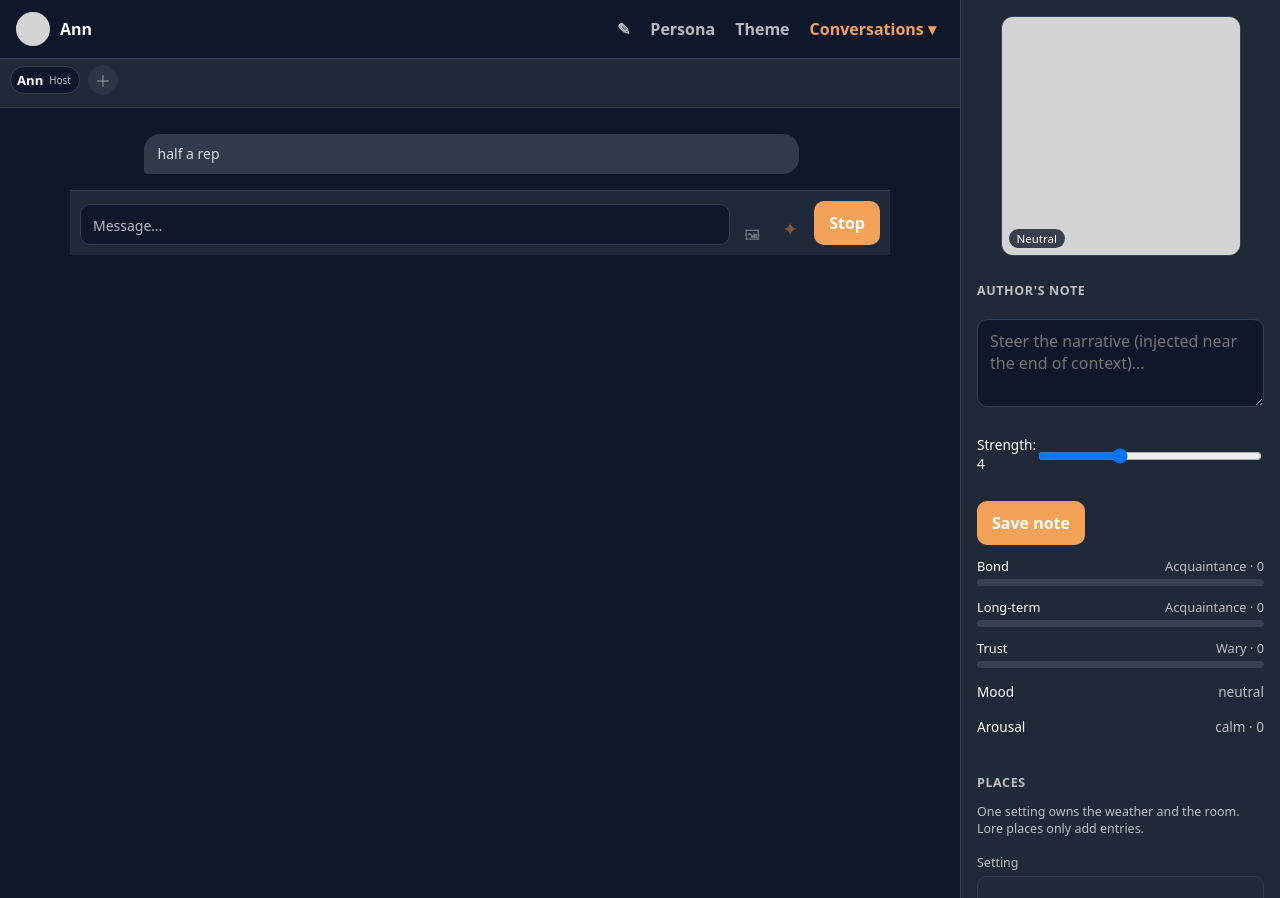
ChatPage conversation switch › drops the old chat's live streaming bubble when another chat is opened
expect the element with class "streaming" is shown: met, box 144,134 -> 799,174
Step 1. Click the button with class "conversations-btn" → click(873, 29), box 802,14 -> 944,44
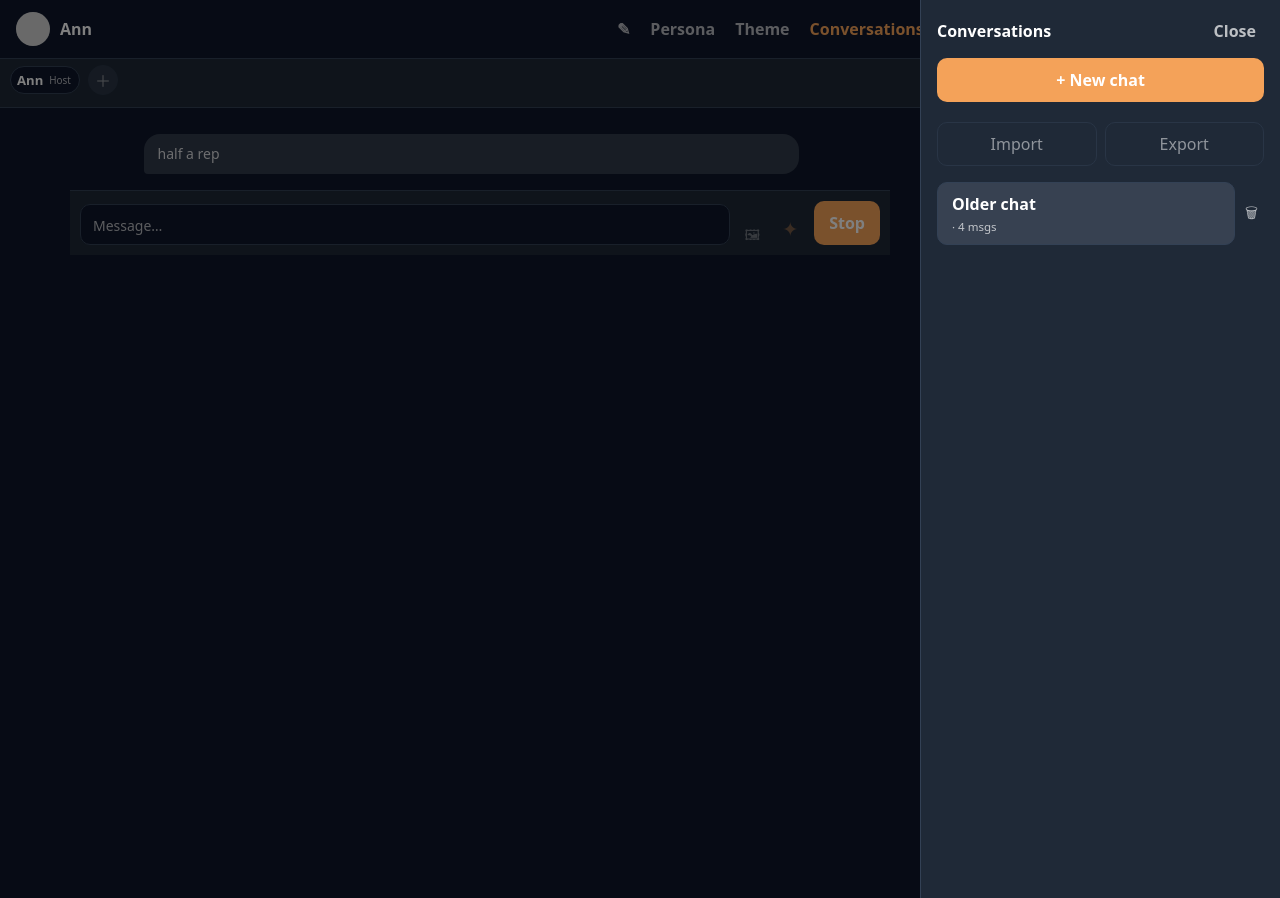
Step 2. Click the button with class "conv-item" → click(994, 204), box 937,182 -> 1235,245
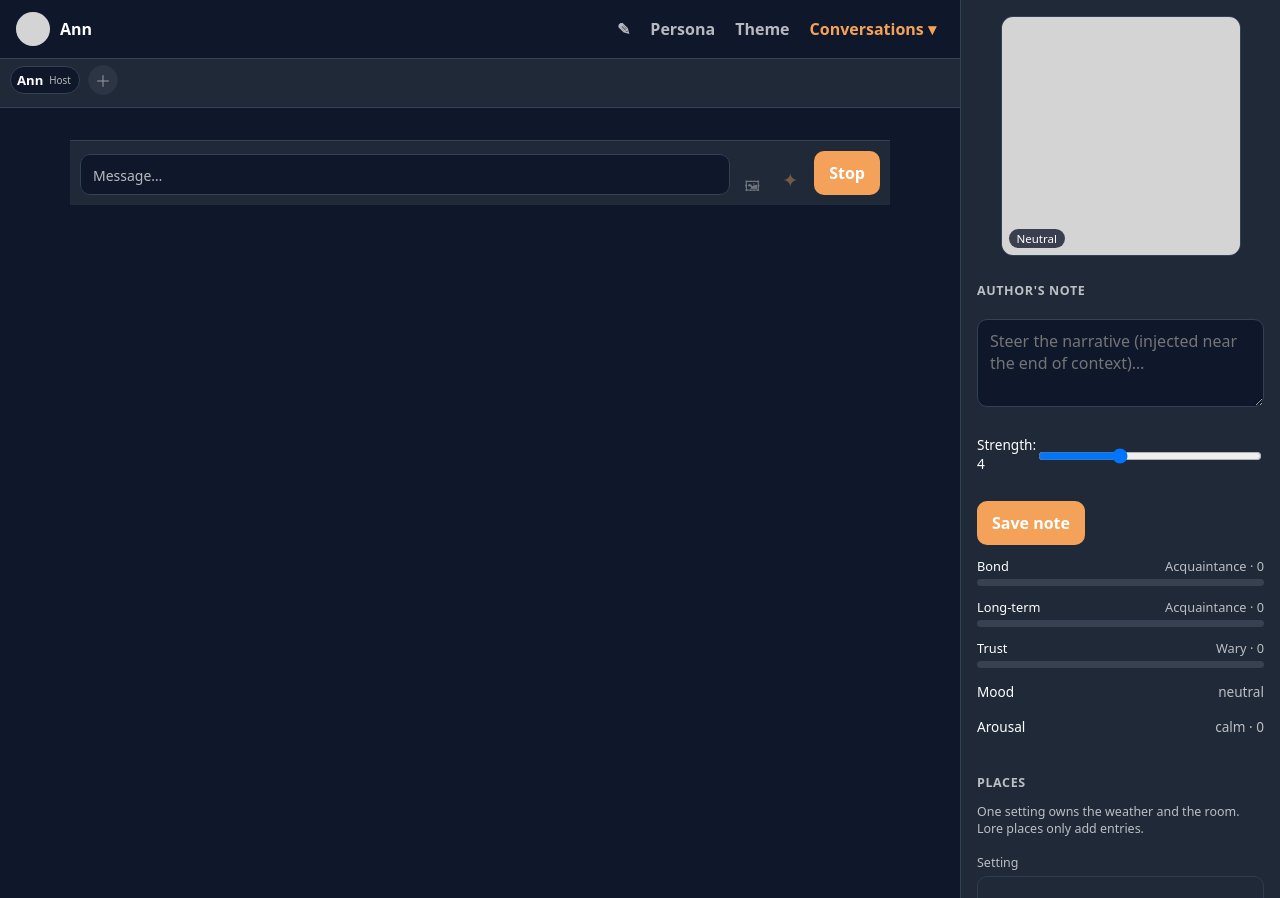
expect the element with class "streaming" is gone: met
